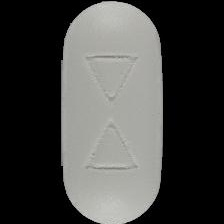10544-541: (0, 0, 224, 224)
